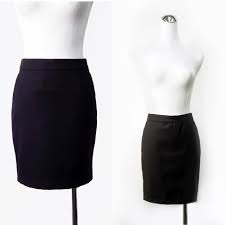F_tailored skirt: (2, 54, 103, 195), (137, 111, 207, 207)
